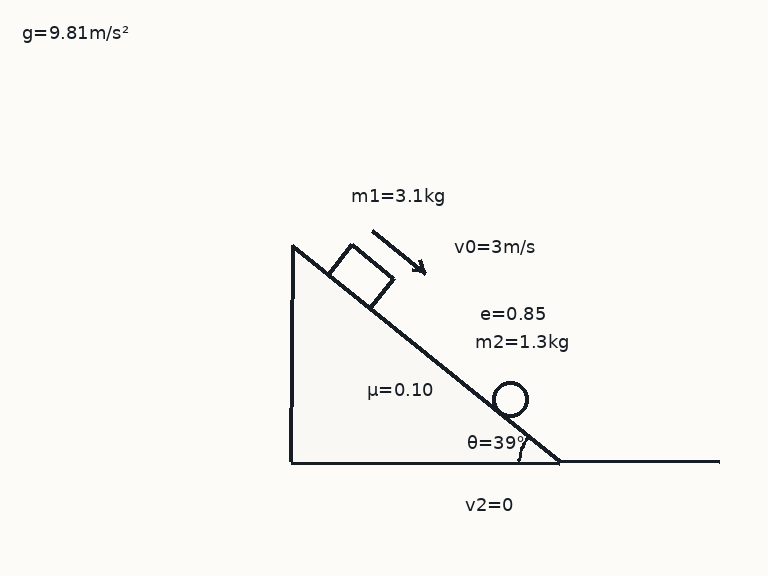ball: (490, 379, 530, 419)
block: (325, 242, 395, 310)
ramp: (290, 244, 561, 464)
